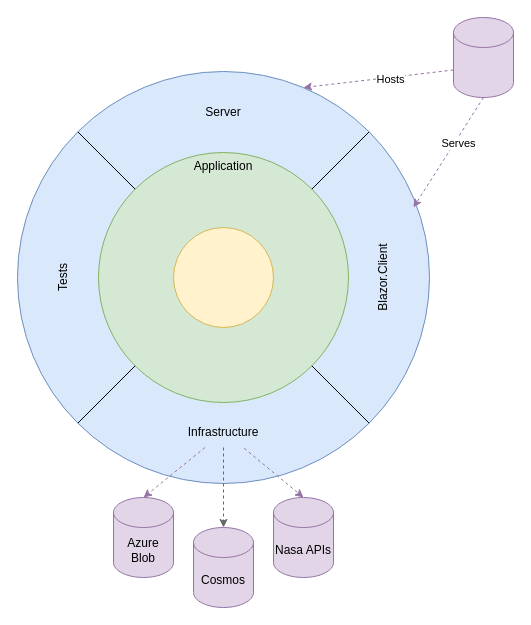
Image size: 531x625. Some labels were removed from this diagram. The shapes that lost their labels are listed below. From the top down, each one's centre as x and y in pixels, then its label:
At (483,57): "Azure App Service".
At (223,277): "Domain".
